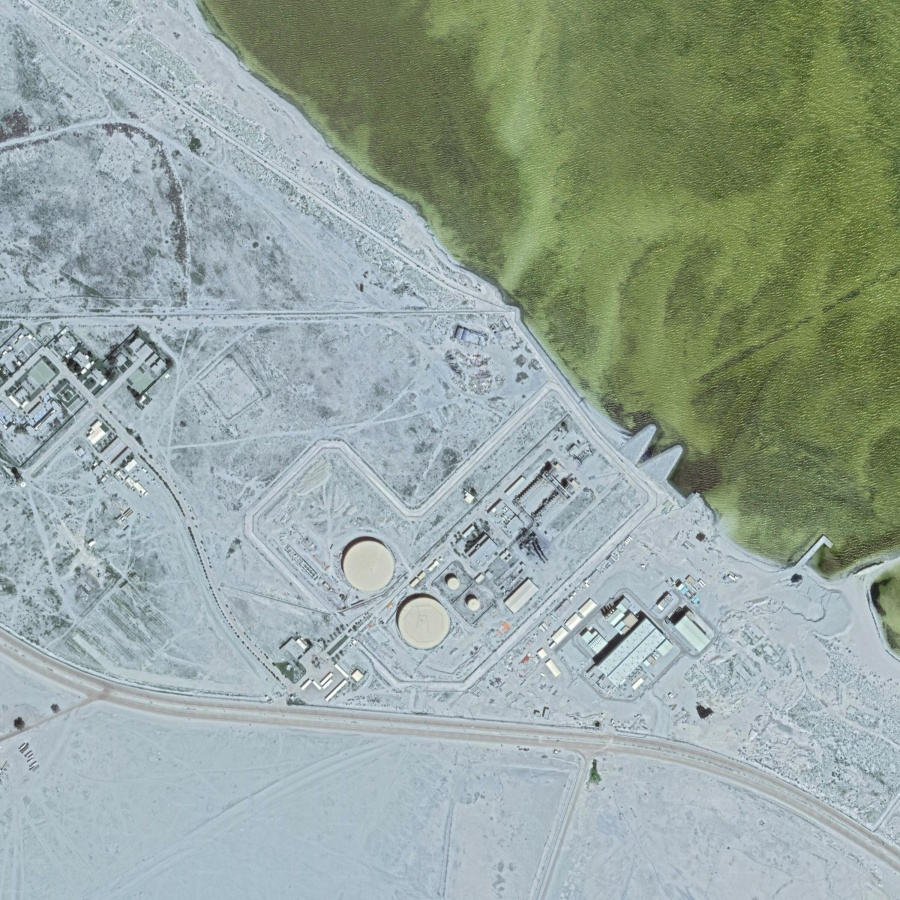PowerPlant: (320, 431, 725, 718)
